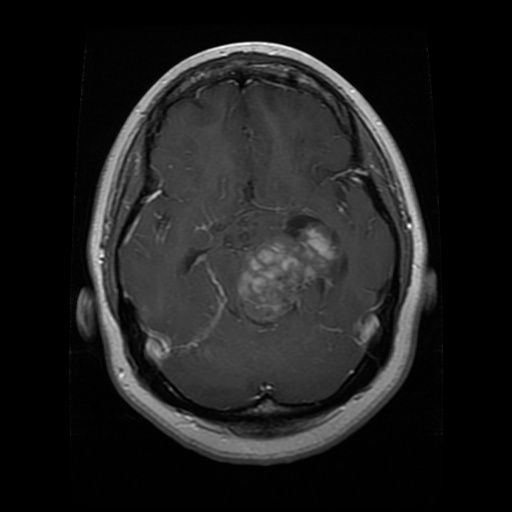glioma: (235, 208, 349, 319)
